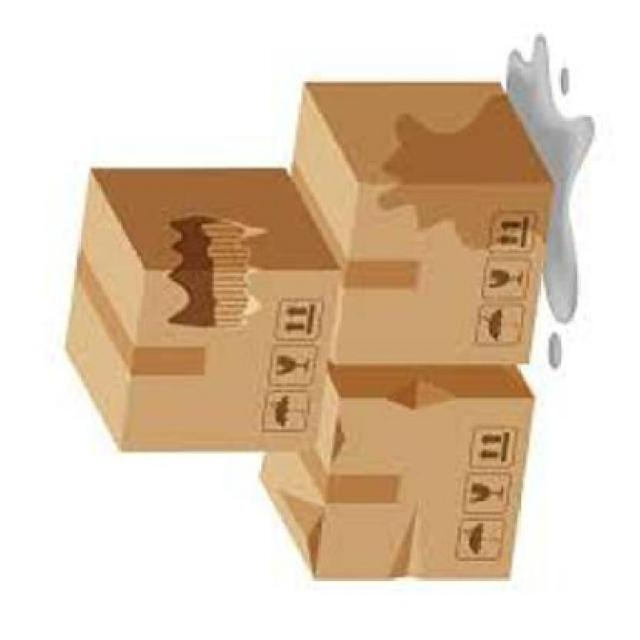defect: (57, 161, 338, 457), (294, 75, 554, 378), (262, 372, 532, 588)
